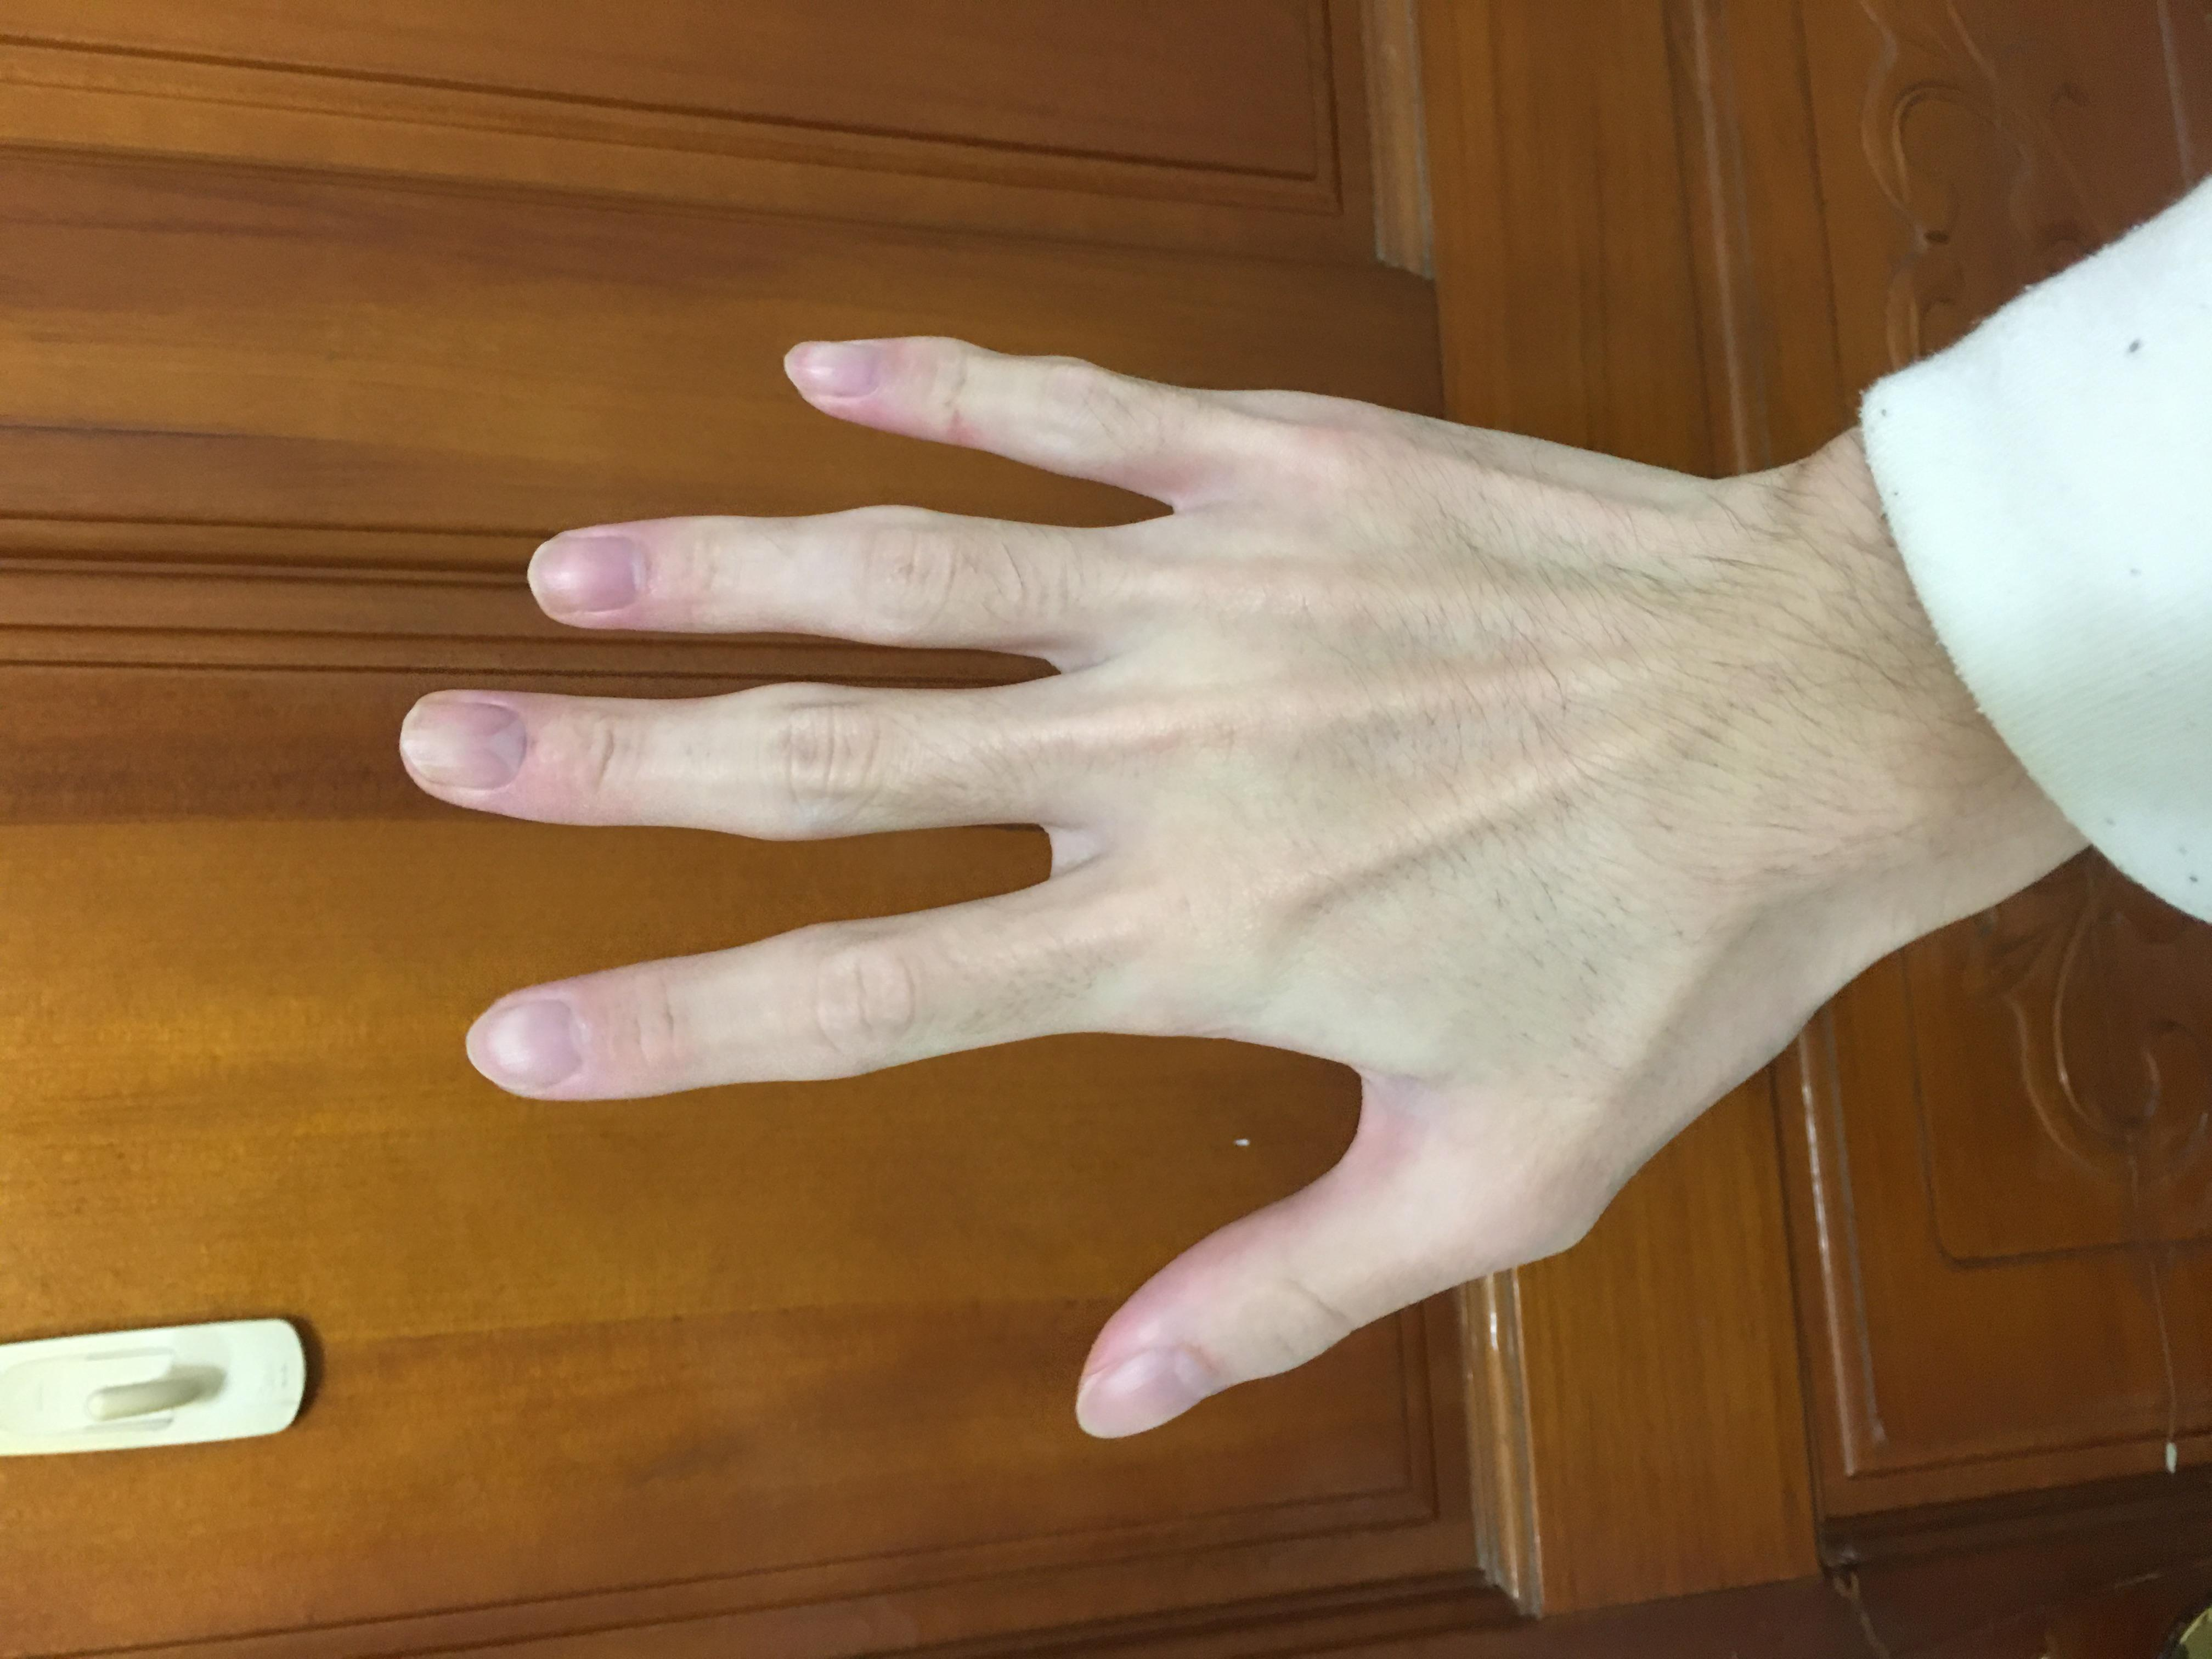hand: (287, 297, 1776, 1296)
